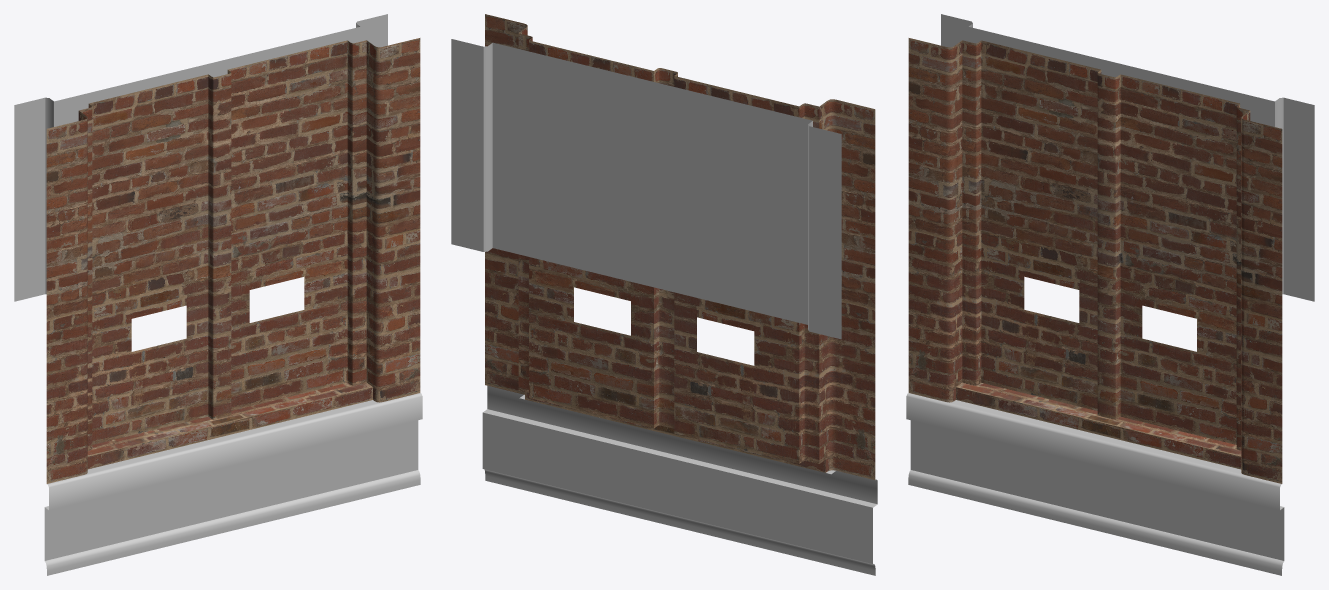
The model's file is SM_Wall_Windows_D_Bottom.fbx.
3 renders of one model, left to right at view 1: azimuth 30°, elevation 25°; view 2: azimuth 150°, elevation 25°; view 3: azimuth 330°, elevation 25°, orthographic. The views are drawn at different scales.
Visible parts, largest first — view 1: SM_Wall_Windows_D_Bottom; view 2: SM_Wall_Windows_D_Bottom; view 3: SM_Wall_Windows_D_Bottom.
Boxes of the visible parts, <box> form: SM_Wall_Windows_D_Bottom: <box>14,14,422,575</box>; SM_Wall_Windows_D_Bottom: <box>451,14,877,575</box>; SM_Wall_Windows_D_Bottom: <box>906,14,1314,575</box>.
Bounding box in the file's own units: 700 × 112 × 800.
